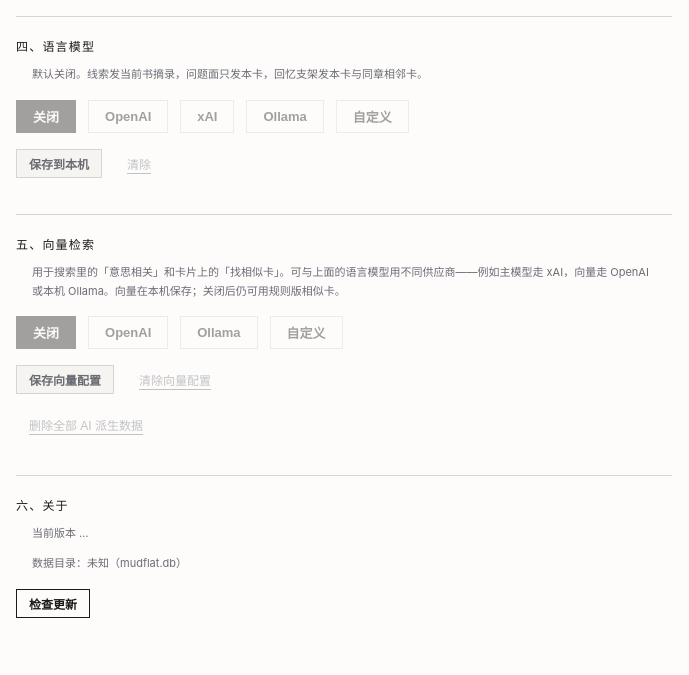
Test case: SettingsView 关于与更新 › 已是最新时只提示，不出现安装钮
(page scrolled)
What coordinates should you click on to do the following:
click the button "检查更新"
I would click on:
 (53, 603)
Its box is [16,589,90,618].
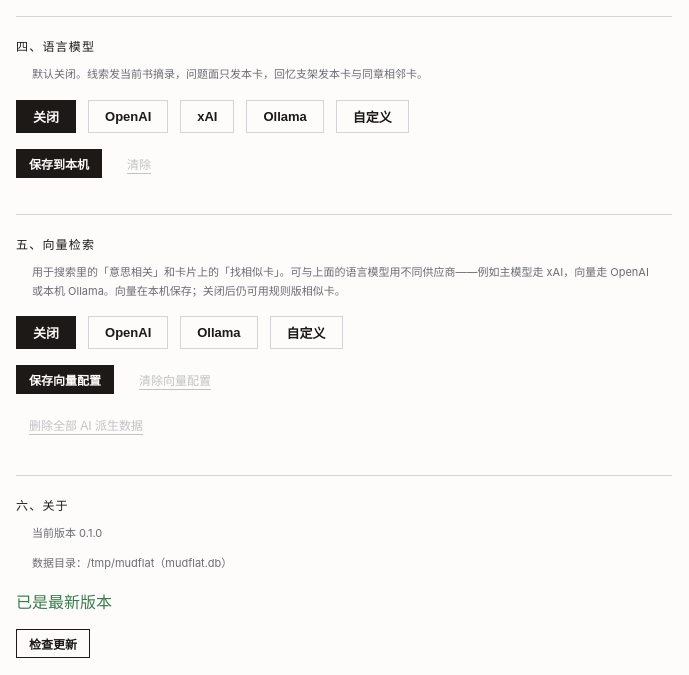
Now the text "已是最新版本" is shown, box [16,592,112,612]
